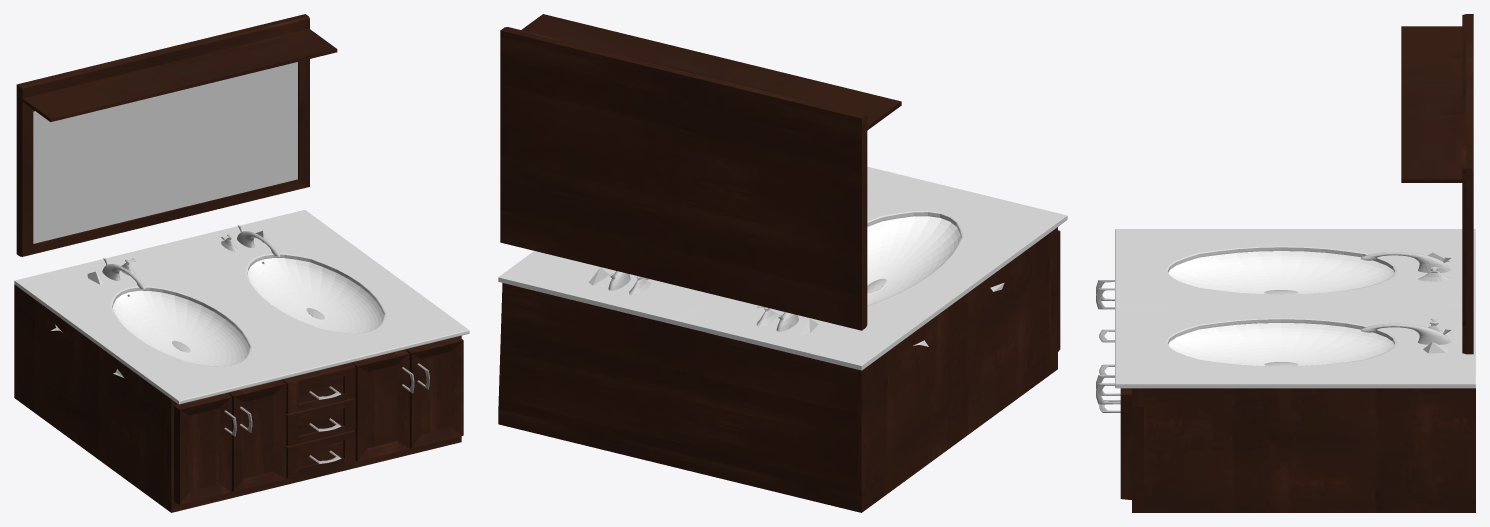
Rendered from sh-scopia-double-vanity.glb.
The picture shows the model from 3 angles, left to right: view 1: azimuth 30°, elevation 25°; view 2: azimuth 150°, elevation 25°; view 3: azimuth 270°, elevation 25°; orthographic projection. The views are drawn at different scales.
Visible parts, largest first — view 1: leftdoor_righside_Plane.018_dark_wood_dark_wood.jpg, lightcenter_Cylinder.009_Material.001, sweethome3d_window_mirror.001_Plane.000_mirror, sink_Sphere_white_ceramic, simpletap_Circle.001_chrome, heat_handle2_Circle.005_chrome, forleftlight_Cylinder.011_metal_handle; view 2: leftdoor_righside_Plane.018_dark_wood_dark_wood.jpg, lightcenter_Cylinder.009_Material.001, sink_Sphere_white_ceramic, heat_handle2_Circle.005_chrome, simpletap_Circle.001_chrome; view 3: leftdoor_righside_Plane.018_dark_wood_dark_wood.jpg, lightcenter_Cylinder.009_Material.001, sink_Sphere_white_ceramic, simpletap_Circle.001_chrome, heat_handle2_Circle.005_chrome, forleftlight_Cylinder.011_metal_handle.
Part boxes in pixels (left/top/right/bottom): leftdoor_righside_Plane.018_dark_wood_dark_wood.jpg: left=14, top=14, right=463, bottom=512; lightcenter_Cylinder.009_Material.001: left=14, top=210, right=469, bottom=404; sweethome3d_window_mirror.001_Plane.000_mirror: left=33, top=62, right=297, bottom=243; sink_Sphere_white_ceramic: left=112, top=258, right=384, bottom=366; simpletap_Circle.001_chrome: left=102, top=234, right=324, bottom=319; heat_handle2_Circle.005_chrome: left=51, top=225, right=279, bottom=377; forleftlight_Cylinder.011_metal_handle: left=224, top=363, right=429, bottom=436; leftdoor_righside_Plane.018_dark_wood_dark_wood.jpg: left=498, top=14, right=1060, bottom=512; lightcenter_Cylinder.009_Material.001: left=498, top=166, right=1067, bottom=370; sink_Sphere_white_ceramic: left=867, top=216, right=960, bottom=305; heat_handle2_Circle.005_chrome: left=588, top=267, right=1004, bottom=346; simpletap_Circle.001_chrome: left=629, top=276, right=798, bottom=331; leftdoor_righside_Plane.018_dark_wood_dark_wood.jpg: left=1120, top=14, right=1475, bottom=512; lightcenter_Cylinder.009_Material.001: left=1115, top=229, right=1475, bottom=388; sink_Sphere_white_ceramic: left=1168, top=251, right=1394, bottom=365; simpletap_Circle.001_chrome: left=1264, top=252, right=1451, bottom=366; heat_handle2_Circle.005_chrome: left=1264, top=252, right=1451, bottom=353; forleftlight_Cylinder.011_metal_handle: left=1096, top=280, right=1120, bottom=404.
Size of the model in its own units: 0.9981 by 1 by 1.
Materials: 6 (1 with a texture image).
